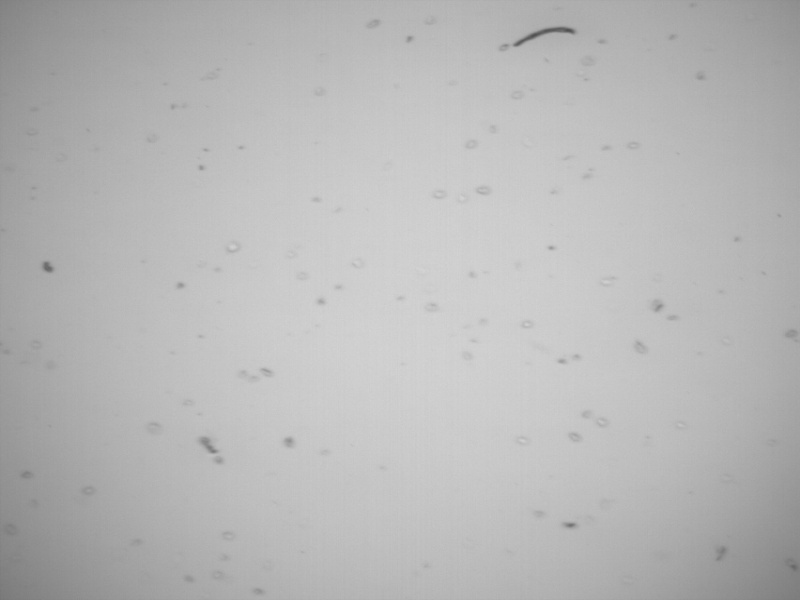fiber: (510, 23, 578, 53)
